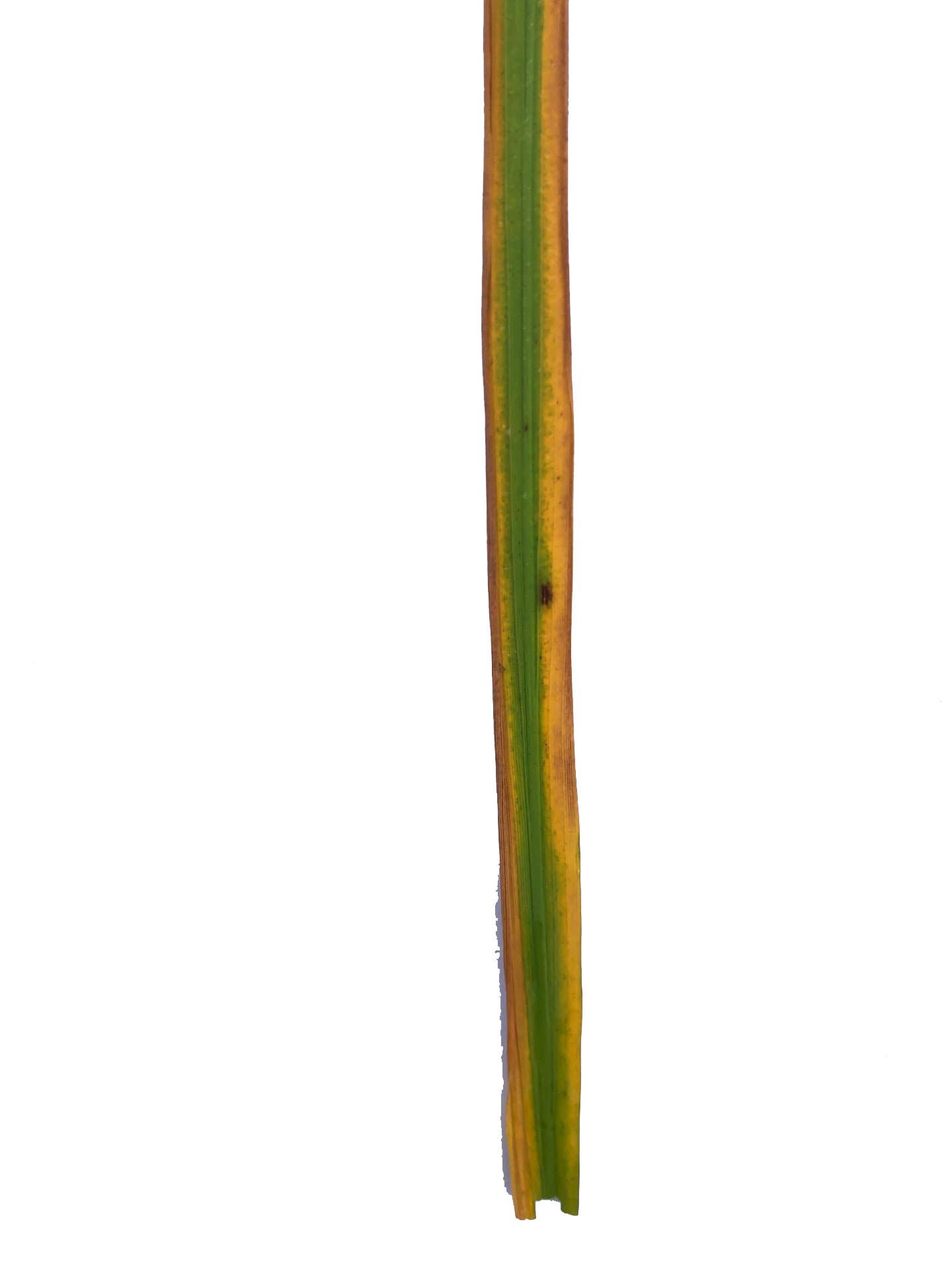Brown spot: (529, 562, 559, 628)
Tungro: (481, 0, 585, 1225)
